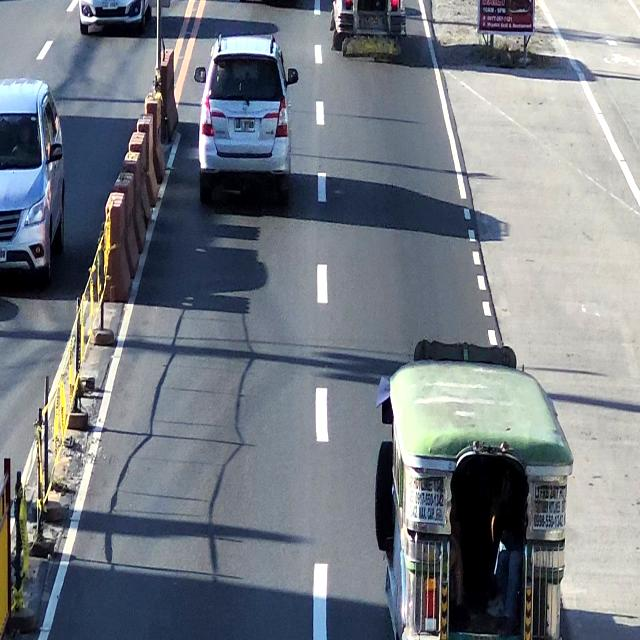Car: (197, 36, 294, 197)
Jeep: (380, 342, 570, 640), (330, 0, 404, 58)
License-Plate: (232, 116, 256, 135)
